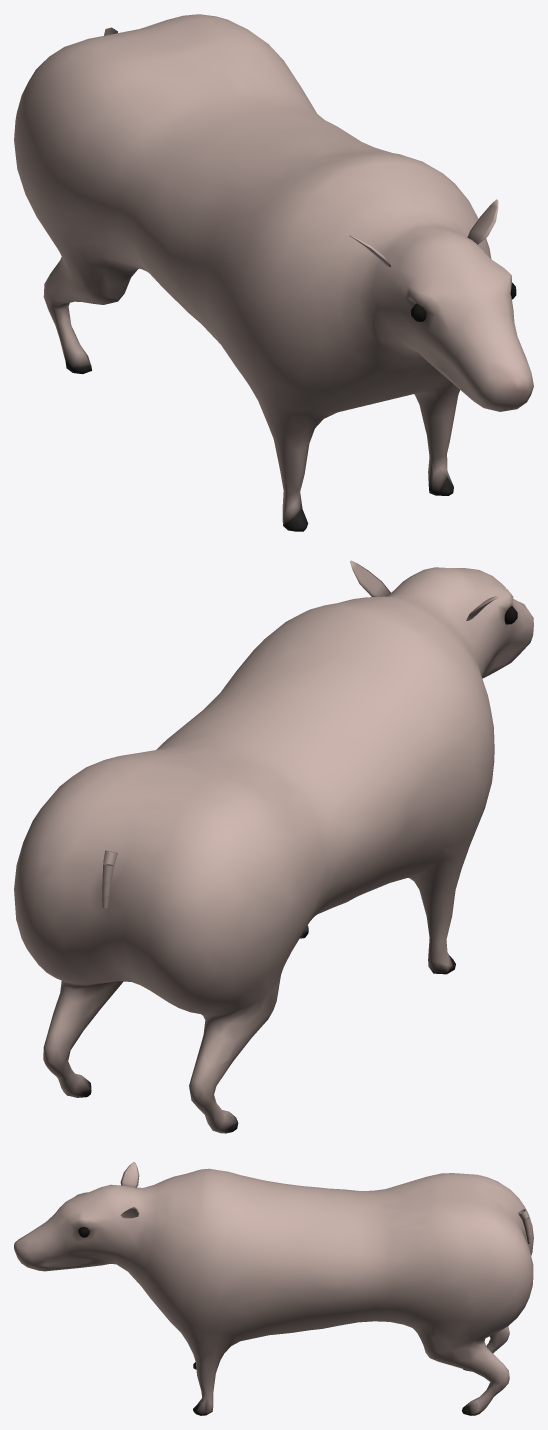
File: schwein.glb
3 views of the same model, one above another, from view 1: azimuth 30°, elevation 25°; view 2: azimuth 150°, elevation 25°; view 3: azimuth 270°, elevation 25° (orthographic). The views are drawn at different scales.
Visible parts, largest first — view 1: lack; view 2: lack; view 3: lack.
Part boxes in pixels (bbox=[...]): lack: bbox=[14, 14, 533, 531]; lack: bbox=[14, 560, 533, 1133]; lack: bbox=[14, 1162, 533, 1415].
Bounding box in the file's own units: 0.612 × 0.8132 × 1.79.
